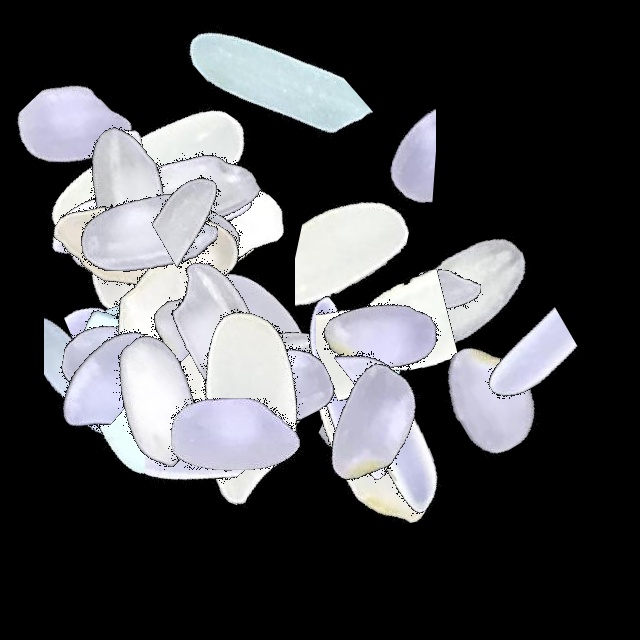Broken: (0, 239, 250, 412), (83, 140, 333, 311), (127, 18, 377, 189), (12, 29, 182, 279), (295, 137, 461, 387), (44, 229, 197, 479), (0, 228, 148, 478), (26, 180, 276, 324), (180, 120, 320, 370), (96, 142, 346, 276), (145, 288, 276, 538), (307, 23, 436, 273), (88, 146, 214, 396), (263, 368, 513, 491), (384, 290, 634, 413), (102, 167, 224, 417), (316, 211, 437, 461), (350, 247, 600, 367), (238, 310, 488, 429), (264, 267, 514, 386), (23, 196, 273, 308), (274, 296, 524, 406), (0, 301, 250, 392)
Full: (344, 165, 594, 415), (54, 124, 304, 374), (127, 193, 377, 443), (0, 117, 250, 367), (24, 51, 274, 301), (23, 91, 273, 341), (114, 261, 364, 511), (246, 306, 496, 556), (124, 255, 374, 505), (260, 296, 510, 546), (80, 222, 330, 472), (0, 72, 250, 322), (0, 74, 250, 324), (225, 265, 475, 515), (55, 114, 305, 364), (23, 118, 273, 368), (0, 267, 250, 517), (46, 231, 296, 481), (257, 209, 507, 459), (367, 272, 617, 522), (247, 301, 497, 551), (93, 208, 343, 458), (26, 106, 276, 356), (151, 262, 401, 512), (123, 284, 373, 534), (31, 277, 281, 527), (109, 310, 359, 560)
